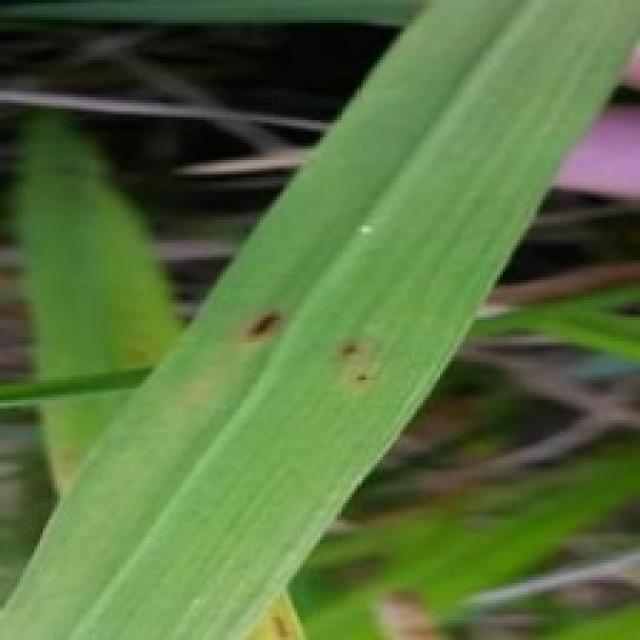Rice___Brown_Spot: (0, 0, 637, 637)
